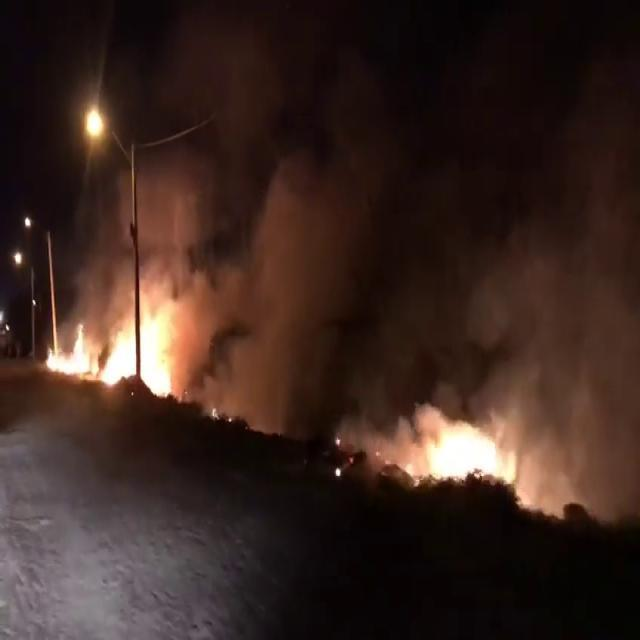Fire: (44, 300, 173, 399), (423, 411, 502, 486)
Smoke: (347, 180, 637, 519), (59, 129, 330, 447), (466, 140, 640, 419), (194, 116, 329, 431)
